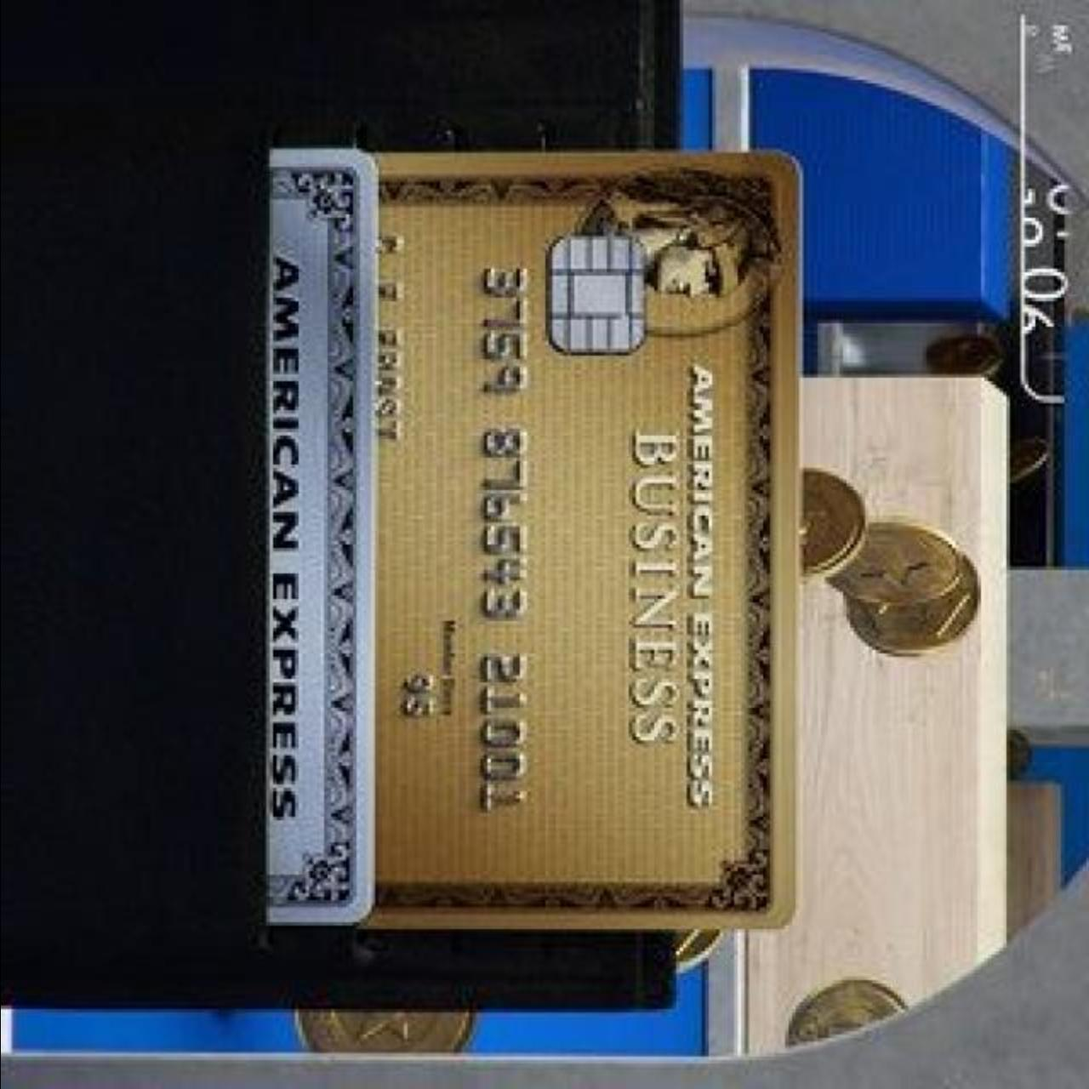credit_card: (364, 126, 803, 946)
